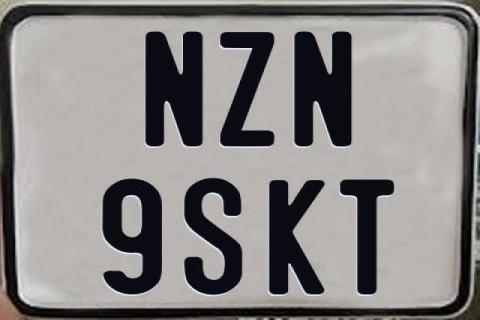0: (100, 176, 161, 295)
K: (268, 179, 328, 297)
N: (146, 29, 208, 144), (292, 30, 350, 150)
S: (184, 178, 243, 298)
T: (339, 177, 397, 295)
Z: (218, 31, 278, 149)
